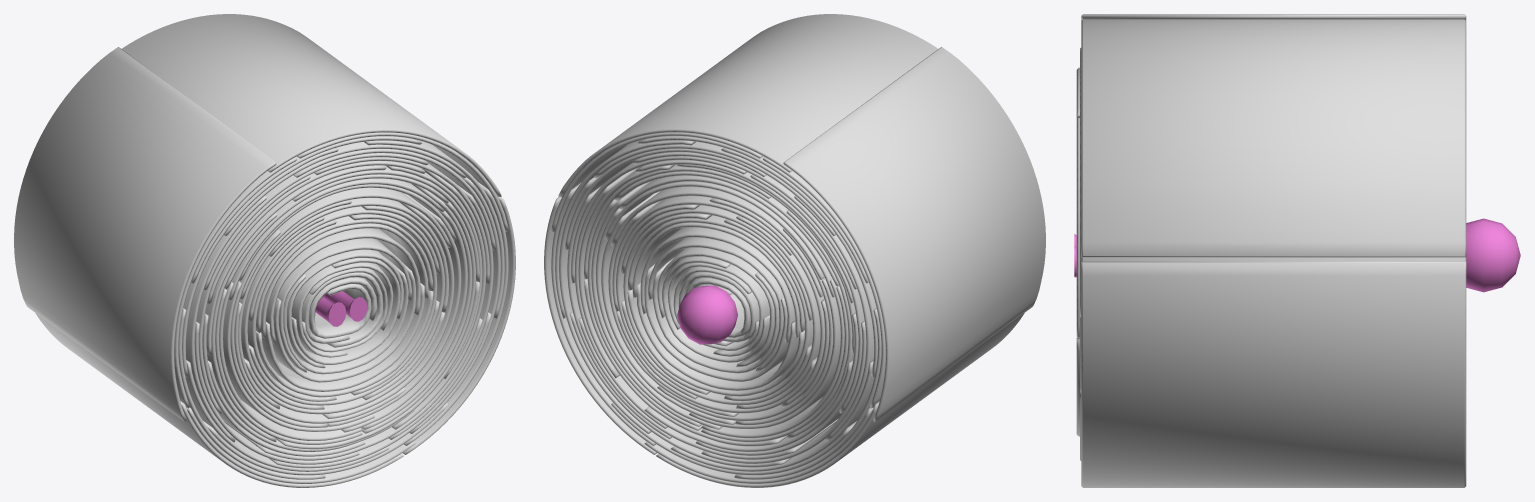
File: huton_4(81).FBX
The picture shows the model from 3 angles, left to right: view 1: azimuth 30°, elevation 25°; view 2: azimuth 150°, elevation 25°; view 3: azimuth 270°, elevation 25°; orthographic projection. The views are drawn at different scales.
Visible parts, largest first — view 1: huton1; view 2: huton1; view 3: huton1.
Boxes of the visible parts, left/top/right/bottom form: huton1: left=14, top=14, right=515, bottom=487; huton1: left=544, top=14, right=1045, bottom=487; huton1: left=1074, top=14, right=1520, bottom=487.
Size of the model in its own units: 196 by 189 by 181.
